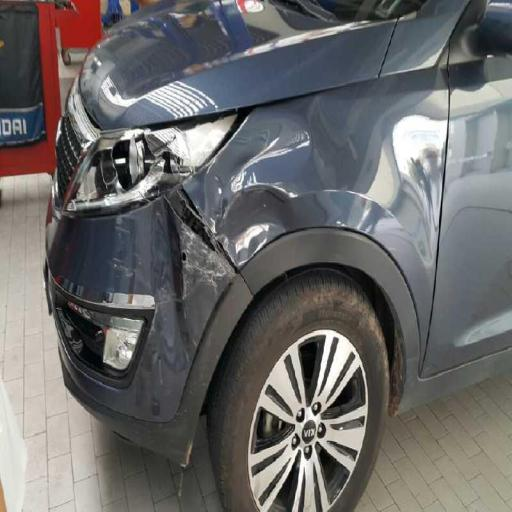broken: (76, 52, 281, 359)
dent: (213, 154, 404, 252)
